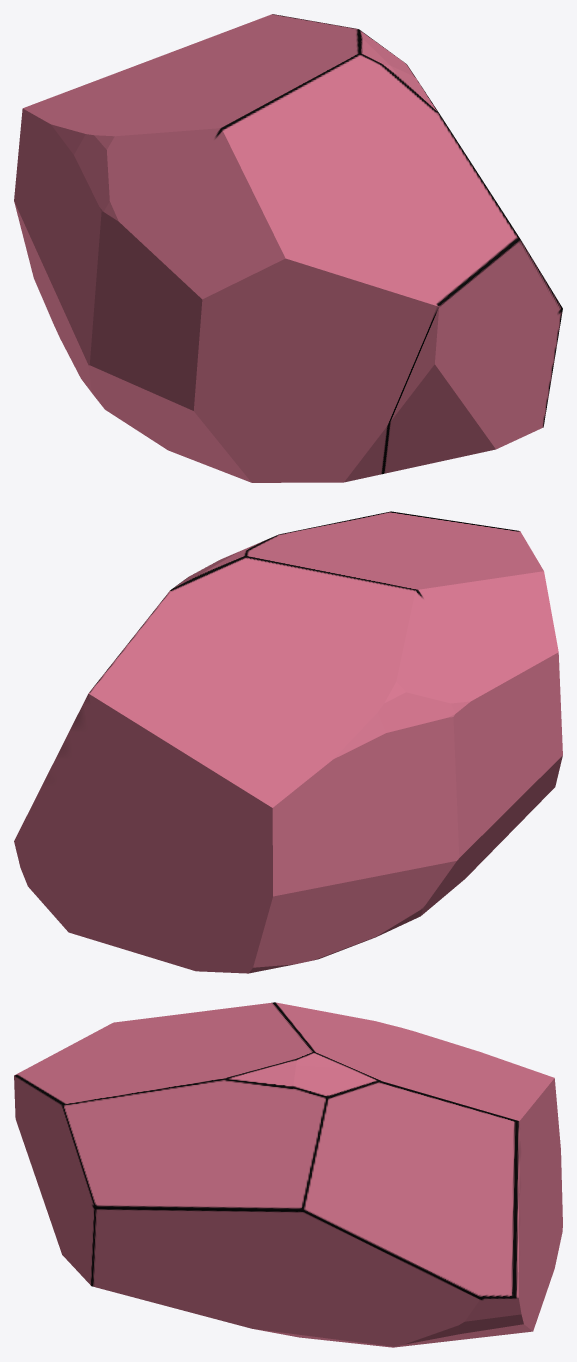
Rendered from Rock5.glb.
3 renders of one model, top to bottom at view 1: azimuth 30°, elevation 25°; view 2: azimuth 150°, elevation 25°; view 3: azimuth 270°, elevation 25°, orthographic. The views are drawn at different scales.
Parts seen in each view (by area): view 1: Sphere; view 2: Sphere; view 3: Sphere.
Boxes of the visible parts, x1,y1,x2,y2 form: Sphere: (14, 14, 562, 482); Sphere: (14, 511, 562, 973); Sphere: (14, 1002, 562, 1347).
Bounding box in the file's own units: 2.41 × 1.96 × 3.76.
Materials: 1 (1 with a texture image).
